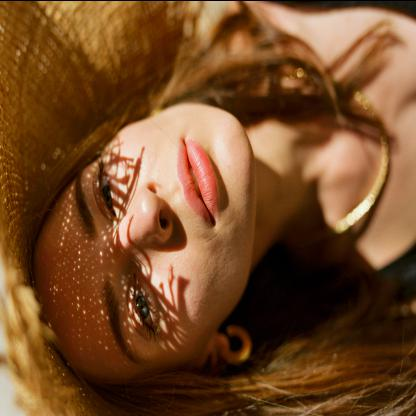Eye: (125, 268, 165, 339), (93, 159, 119, 218)
Mouth: (174, 132, 219, 229)
Nose: (119, 178, 173, 249)
